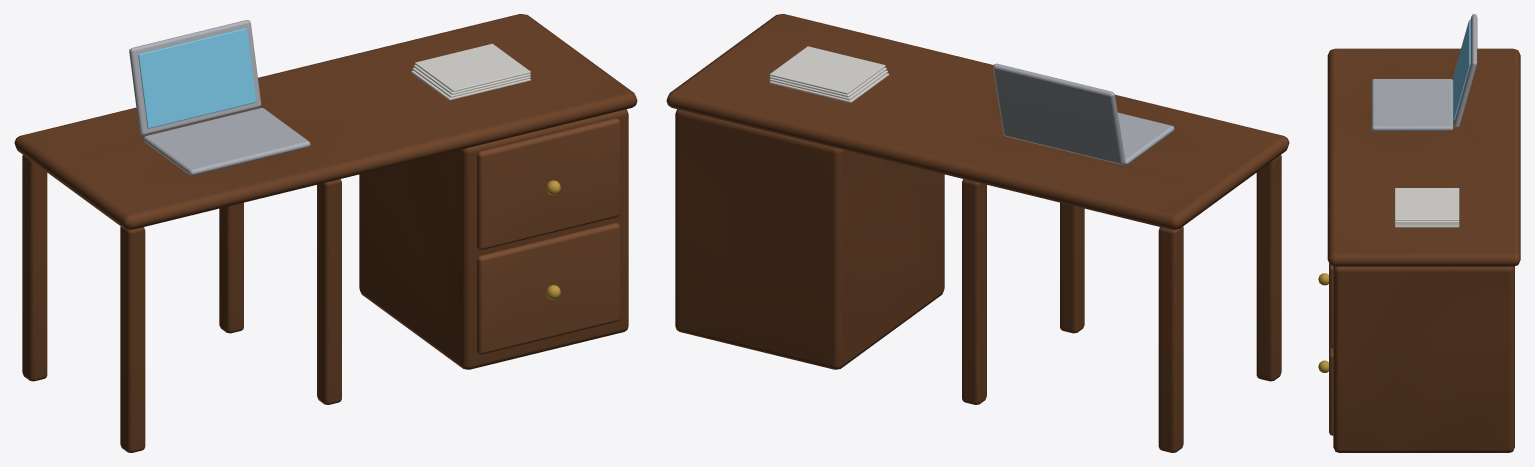
The model's file is furn_study_desk.glb.
The picture shows the model from 3 angles, left to right: view 1: azimuth 30°, elevation 25°; view 2: azimuth 150°, elevation 25°; view 3: azimuth 270°, elevation 25°; orthographic projection. The views are drawn at different scales.
Parts seen in each view (by area): view 1: furn_study_desk_main, furn_study_desk_gloss; view 2: furn_study_desk_main; view 3: furn_study_desk_main, furn_study_desk_gloss.
Boxes of the visible parts, left/top/right/bottom form: furn_study_desk_main: left=14, top=14, right=637, bottom=452; furn_study_desk_gloss: left=138, top=28, right=256, bottom=128; furn_study_desk_main: left=666, top=14, right=1289, bottom=452; furn_study_desk_main: left=1318, top=14, right=1520, bottom=452; furn_study_desk_gloss: left=1453, top=20, right=1470, bottom=120.
Bounding box in the file's own units: 1.7 × 1.02 × 0.692.
